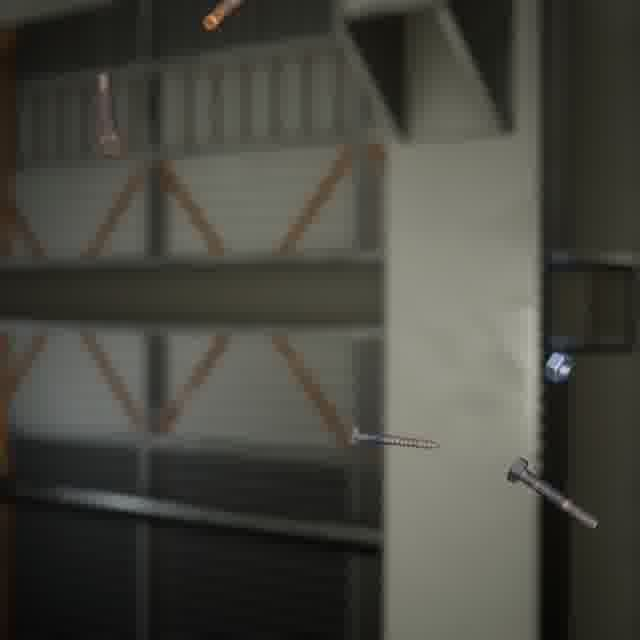bolt: (502, 452, 604, 535), (92, 68, 129, 161), (342, 421, 445, 453), (199, 0, 253, 35)
nut: (540, 346, 577, 386)
